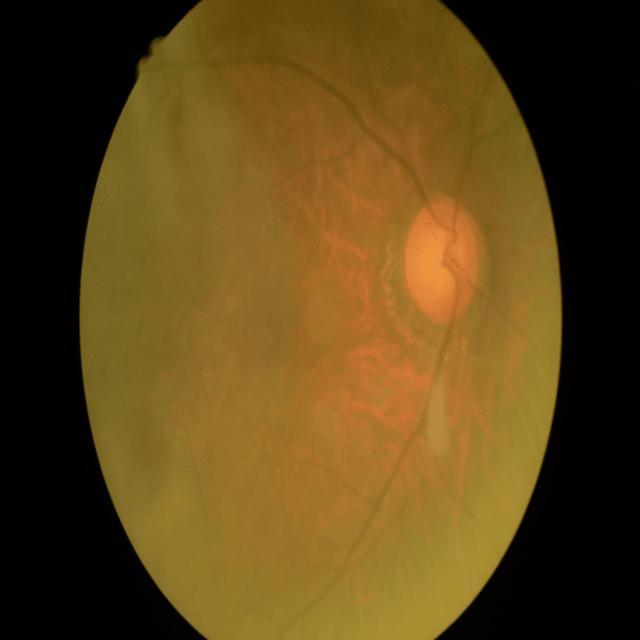cup: (420, 226, 464, 306)
disk: (406, 198, 481, 326)
